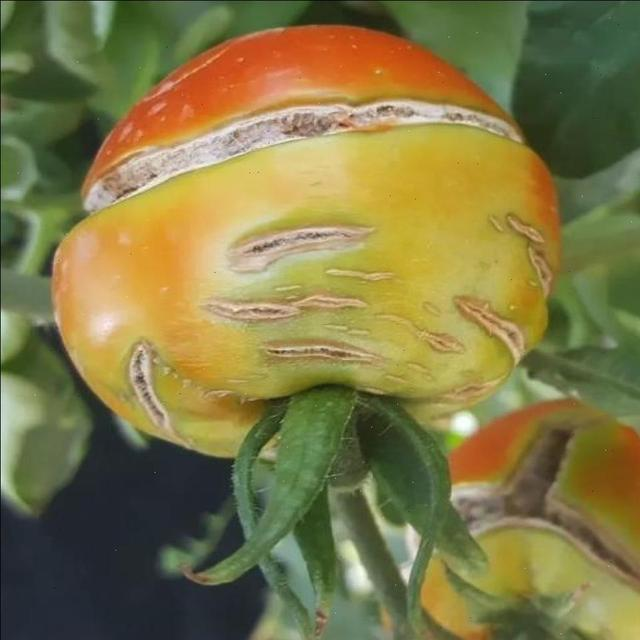Cracking Fruit: (38, 24, 321, 260)
